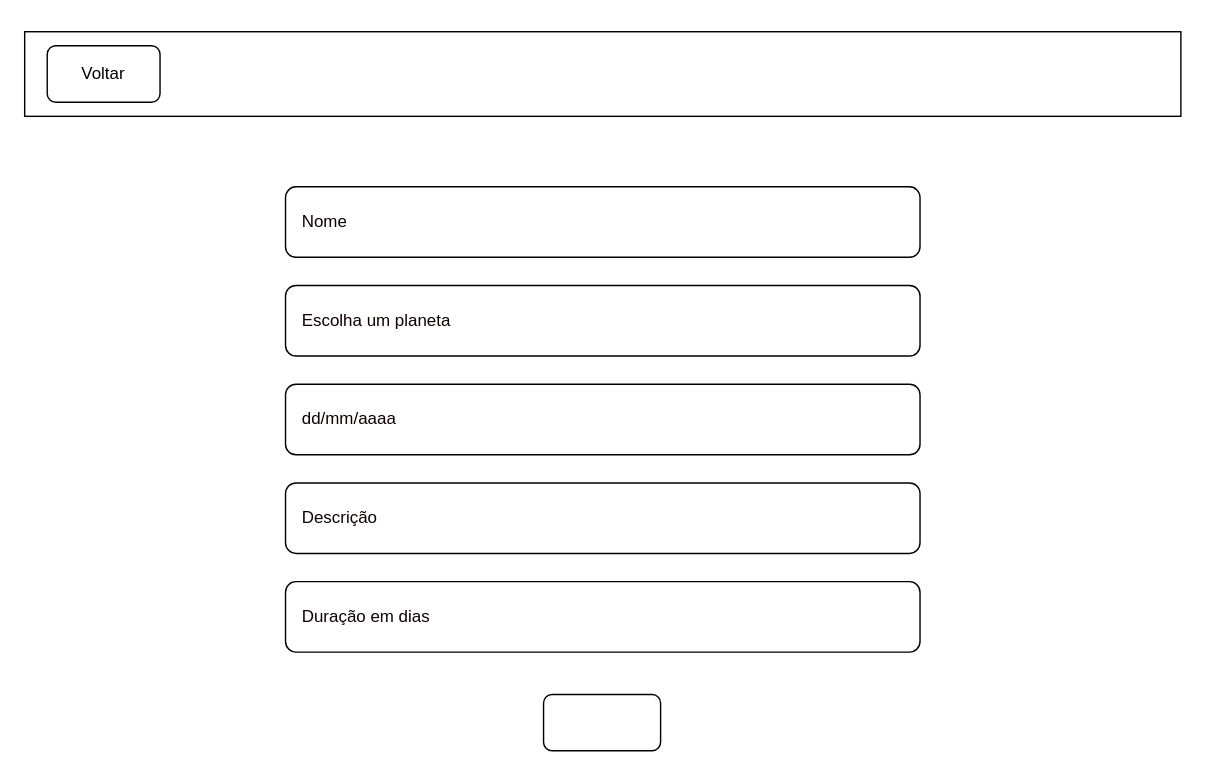
Some shapes in this 1206 by 776 pixel diagram are drawn without their labels. Each missing label, with the box of its shape:
Criar: (542, 693, 661, 751)
Criar viagem: (23, 30, 1181, 116)
